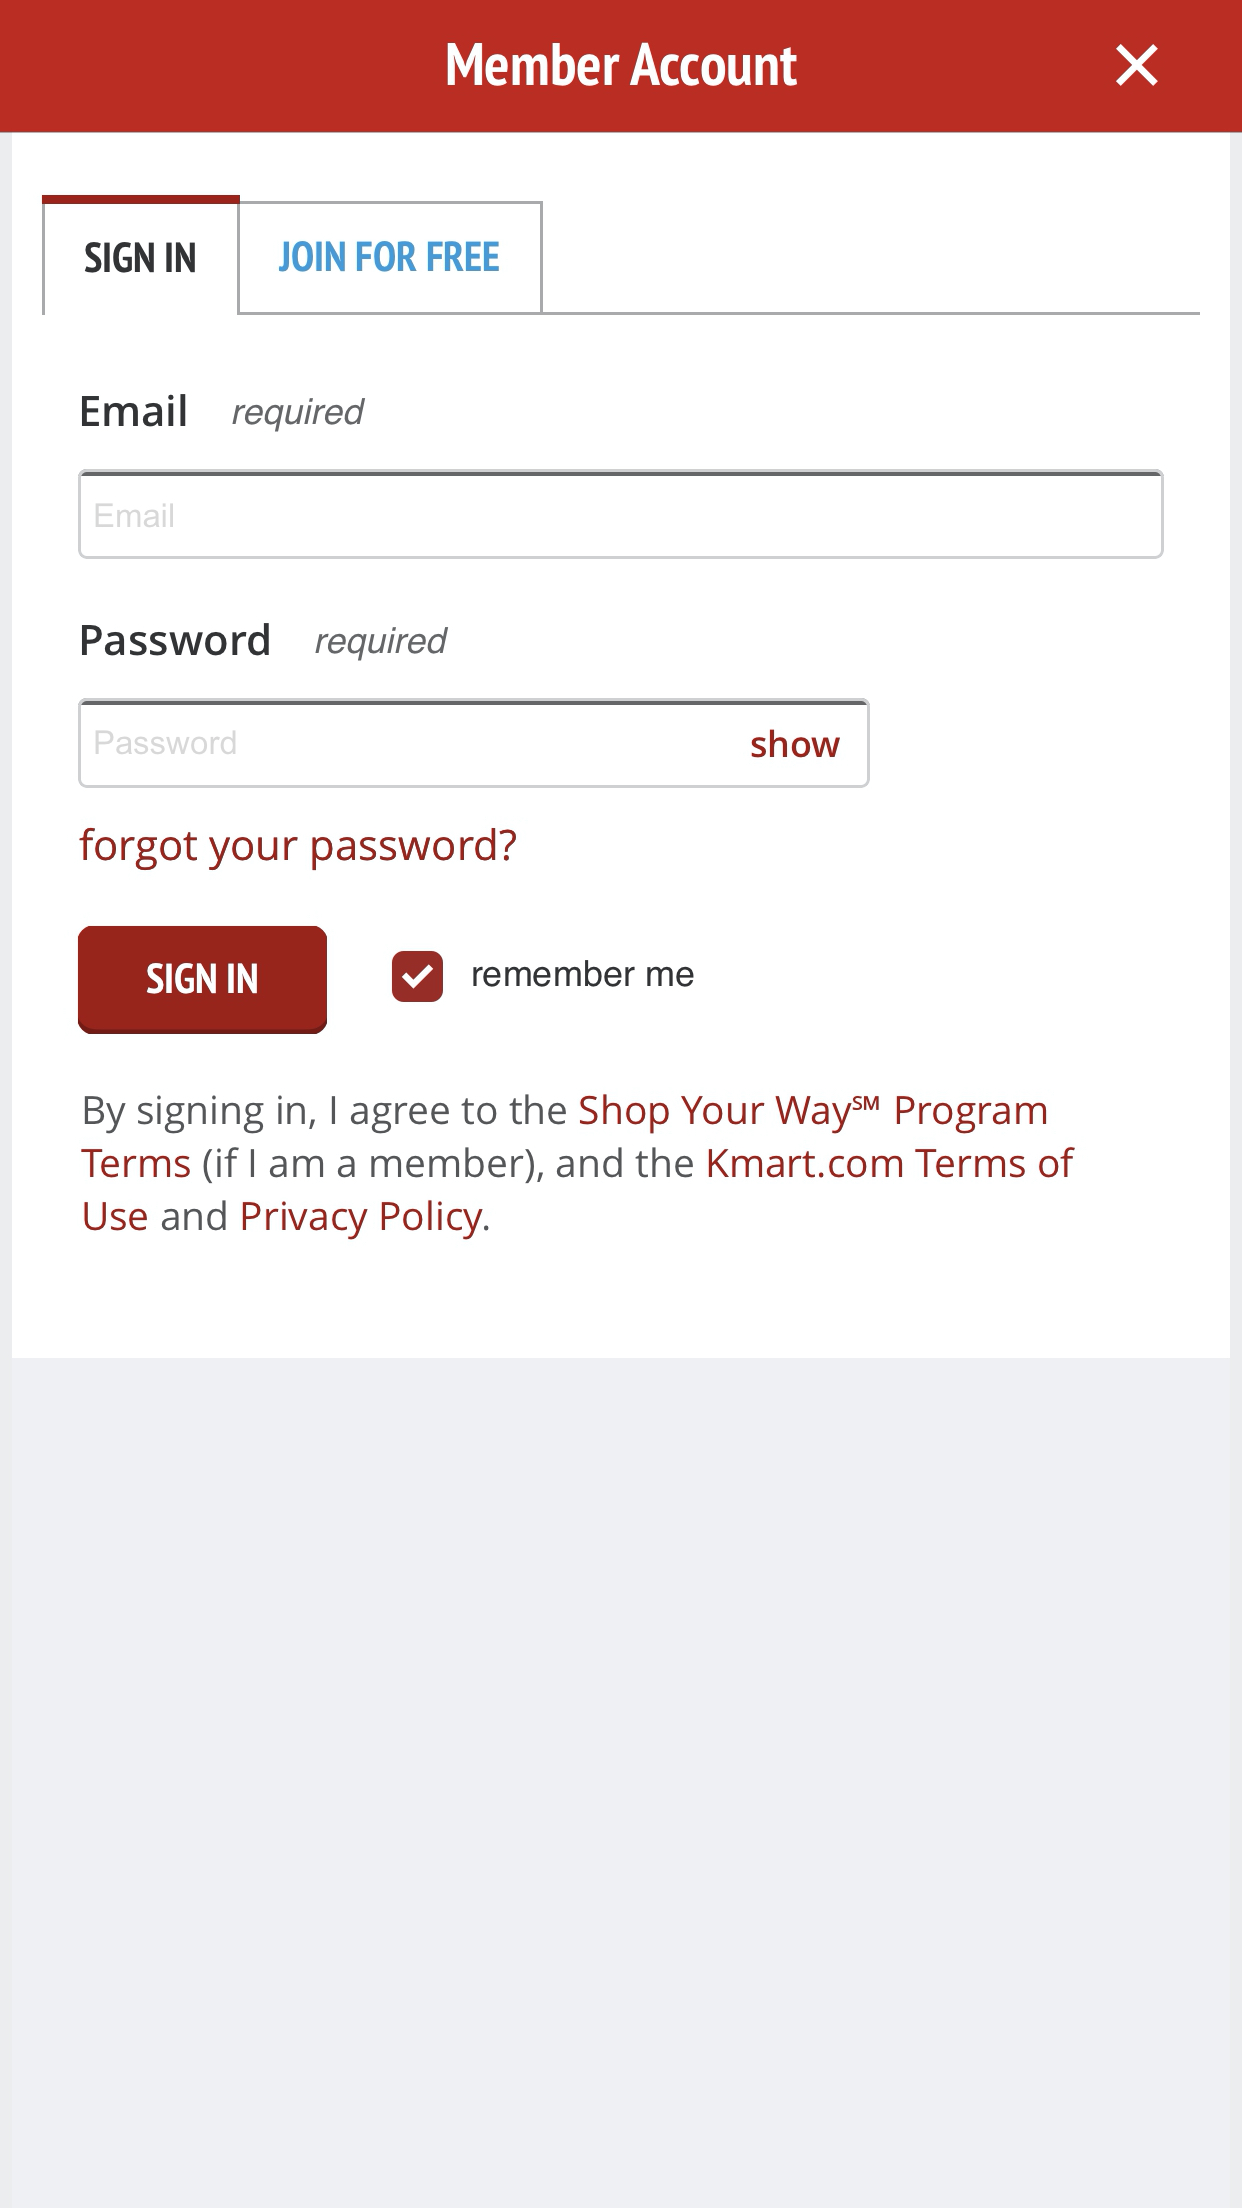CheckedTextView: (391, 951, 695, 1002)
EditText: (77, 470, 1165, 560), (79, 698, 870, 789)
Icon: (1115, 44, 1159, 88)
Text: (82, 1093, 1077, 1240), (80, 828, 517, 872), (447, 42, 798, 88), (473, 960, 695, 989), (83, 623, 270, 657), (232, 397, 365, 434), (315, 626, 449, 663), (96, 731, 237, 757), (85, 243, 196, 274), (82, 394, 187, 428), (752, 729, 842, 760), (96, 503, 174, 529)
TextButton: (238, 202, 544, 315), (77, 927, 328, 1034)
